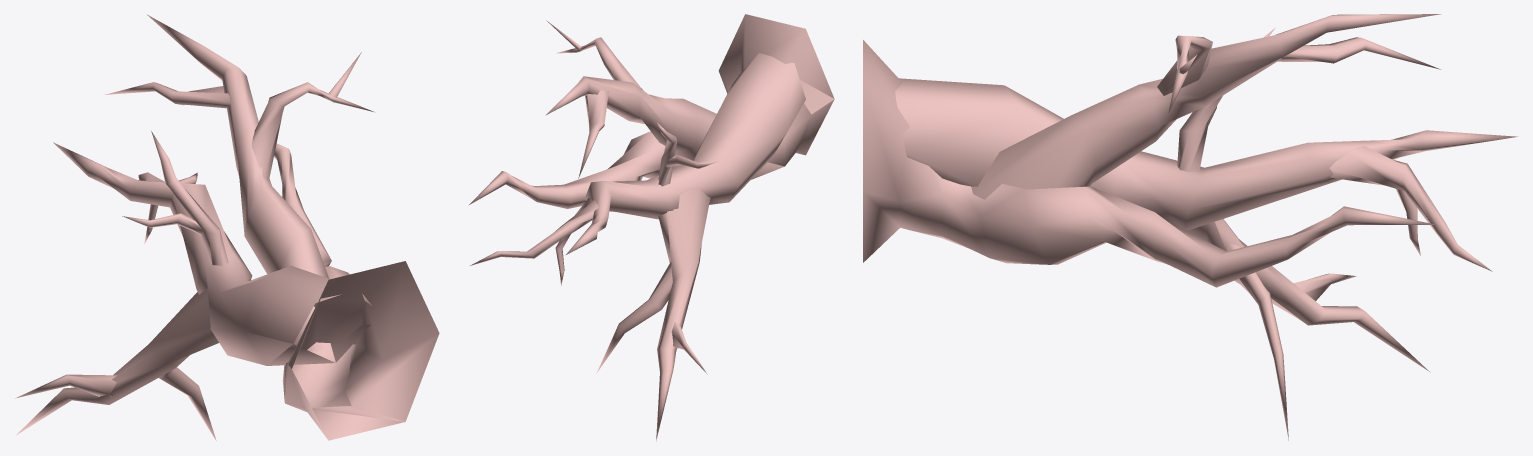
3 views of the same model, side by side, from view 1: azimuth 30°, elevation 25°; view 2: azimuth 150°, elevation 25°; view 3: azimuth 270°, elevation 25° (orthographic). The views are drawn at different scales.
Parts seen in each view (by area): view 1: Object28; view 2: Object28; view 3: Object28.
Boxes of the visible parts, <box> form: Object28: <box>15,14,439,440</box>; Object28: <box>469,14,834,441</box>; Object28: <box>863,14,1517,440</box>.
Size of the model in its own units: 30937 by 42670 by 56102.
